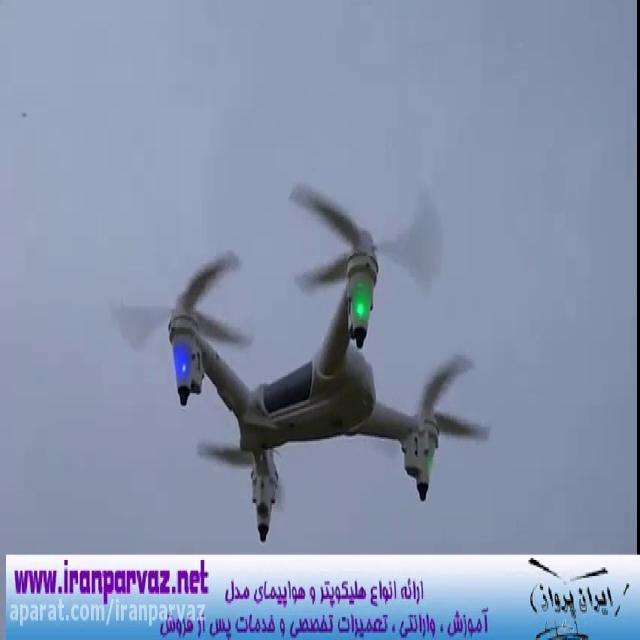drone: (107, 164, 498, 546)
